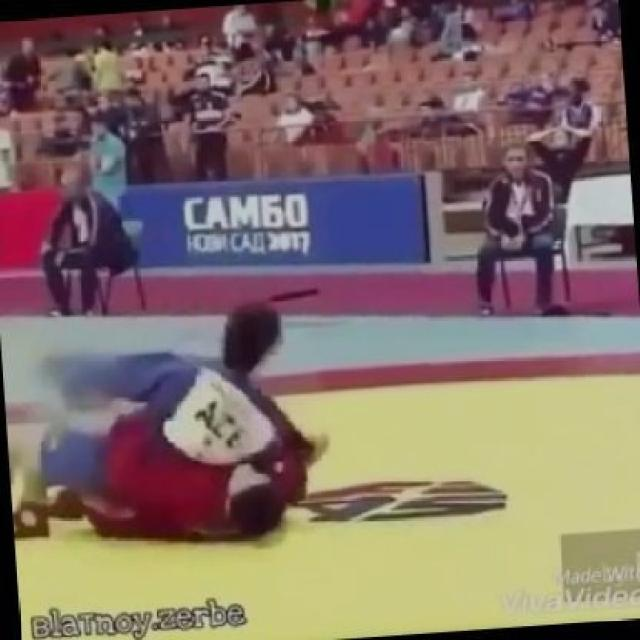fight: (10, 299, 331, 540)
non-fight: (472, 144, 574, 316), (38, 158, 139, 315)
